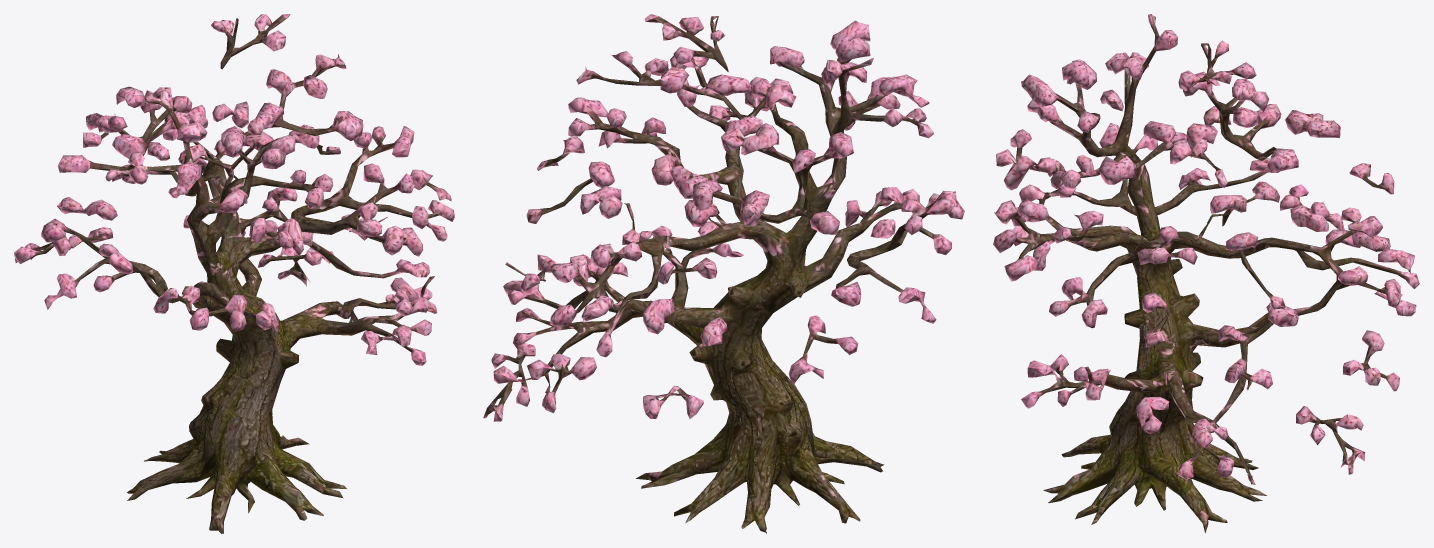
The model's file is cerejeira.glb.
The picture shows the model from 3 angles, left to right: view 1: azimuth 30°, elevation 25°; view 2: azimuth 150°, elevation 25°; view 3: azimuth 270°, elevation 25°; orthographic projection. The views are drawn at different scales.
Visible parts, largest first — view 1: cerejeira; view 2: cerejeira; view 3: cerejeira.
Part boxes in pixels (<box>): cerejeira: <box>14,14,454,533</box>; cerejeira: <box>483,14,964,533</box>; cerejeira: <box>993,14,1419,533</box>.
Bounding box in the file's own units: 6.42 × 7 × 5.94.
Materials: 1 (1 with a texture image).
